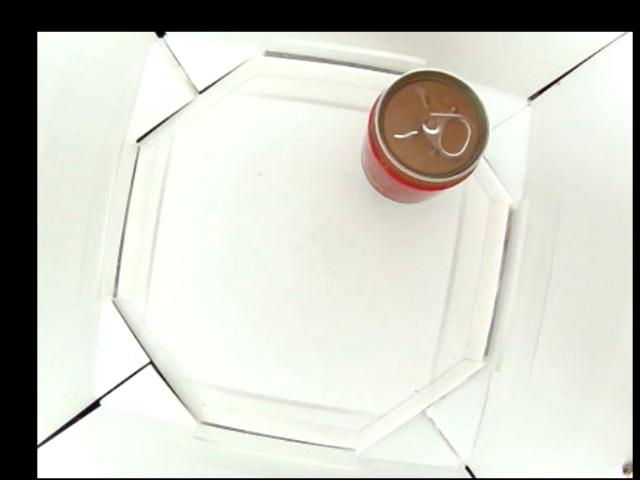Bottle: (358, 68, 489, 202)
